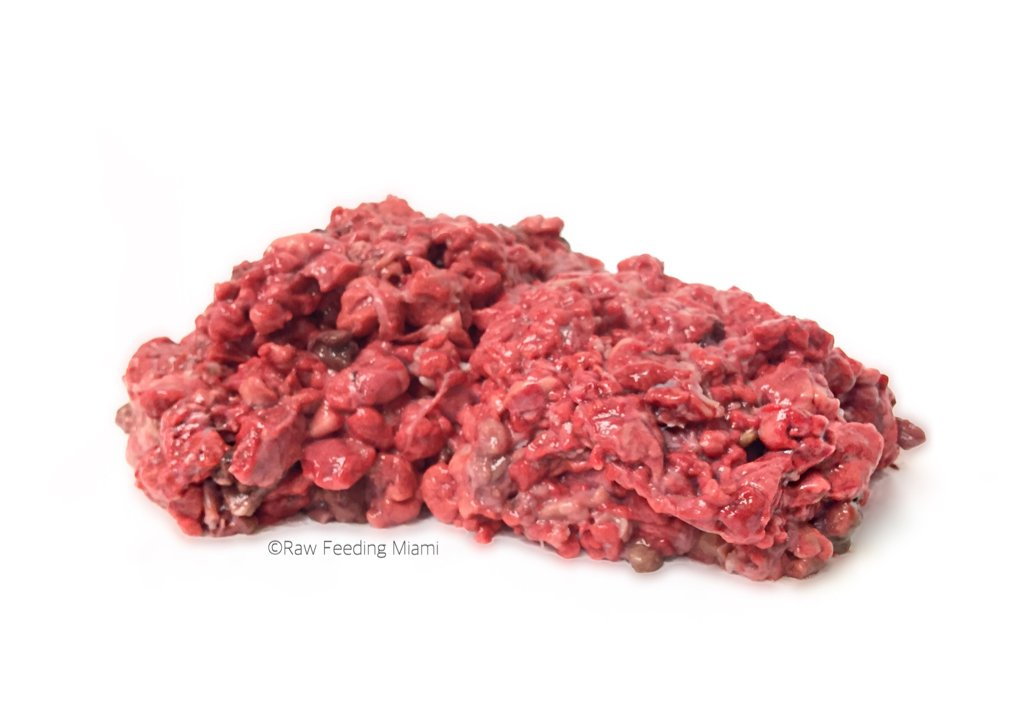ground_beef: (121, 173, 917, 599)
